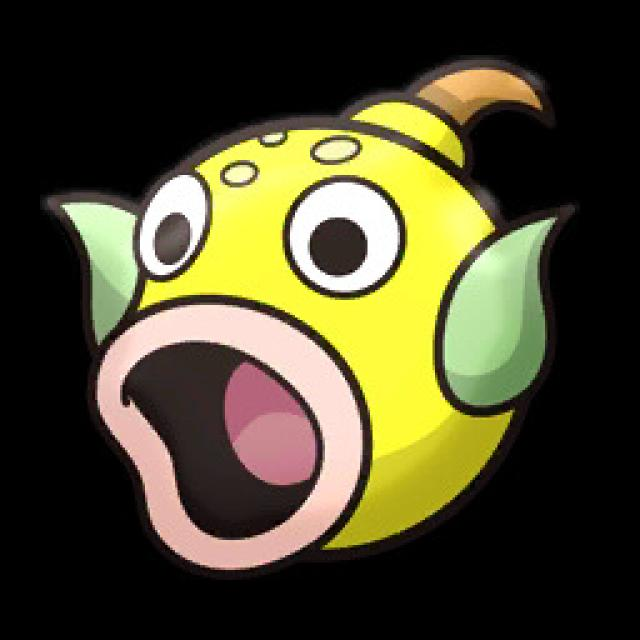Weepinbell: (34, 48, 570, 570)
